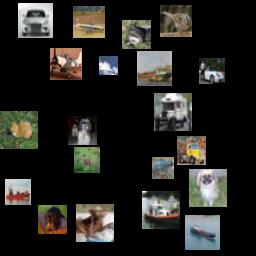airplane: (50, 48, 82, 80), (73, 6, 105, 38), (99, 56, 118, 75)
automobile: (18, 3, 53, 38), (199, 58, 225, 84)
bird: (160, 5, 192, 37)
cat: (0, 111, 38, 149), (122, 20, 151, 49)
deer: (74, 147, 100, 173)
dog: (189, 169, 227, 207), (76, 204, 114, 242), (68, 116, 97, 145), (38, 205, 67, 234)
frog: (152, 157, 174, 179)
ship: (142, 191, 180, 229), (185, 215, 220, 250), (137, 51, 172, 86), (5, 179, 31, 205)
truck: (154, 93, 192, 131), (177, 136, 206, 165)
